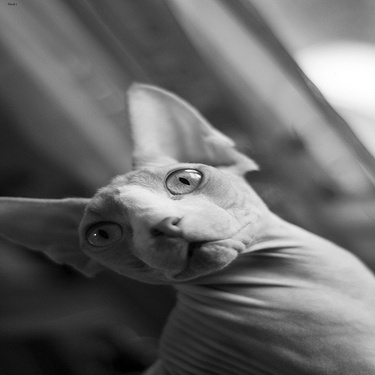cat: (5, 73, 372, 372)
